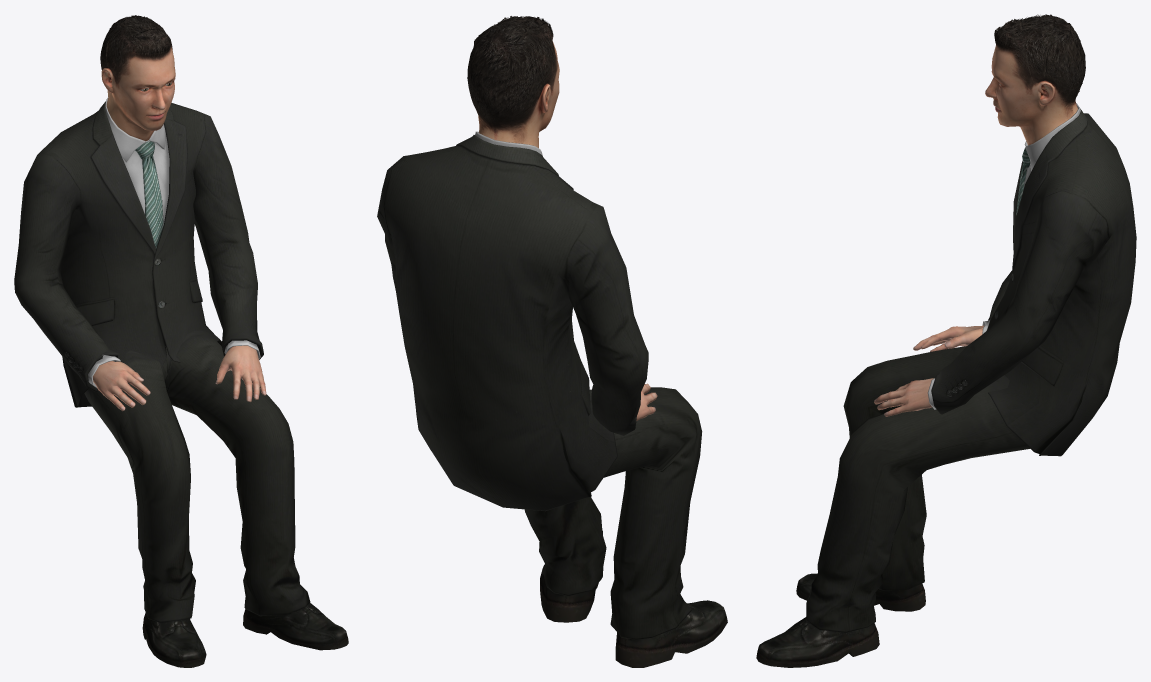
File: guest-man.glb
The picture shows the model from 3 angles, left to right: view 1: azimuth 30°, elevation 25°; view 2: azimuth 150°, elevation 25°; view 3: azimuth 270°, elevation 25°; orthographic projection. The views are drawn at different scales.
Parts seen in each view (by area): view 1: m020_hipoly_81_bones_opacity; view 2: m020_hipoly_81_bones_opacity; view 3: m020_hipoly_81_bones_opacity.
Part boxes in pixels (box(x1,y1,x2,y2)): m020_hipoly_81_bones_opacity: box(14, 15, 348, 667); m020_hipoly_81_bones_opacity: box(377, 16, 727, 667); m020_hipoly_81_bones_opacity: box(756, 14, 1136, 667).
Size of the model in its own units: 62.06 by 150 by 84.9.
Materials: 3 (3 with a texture image).
